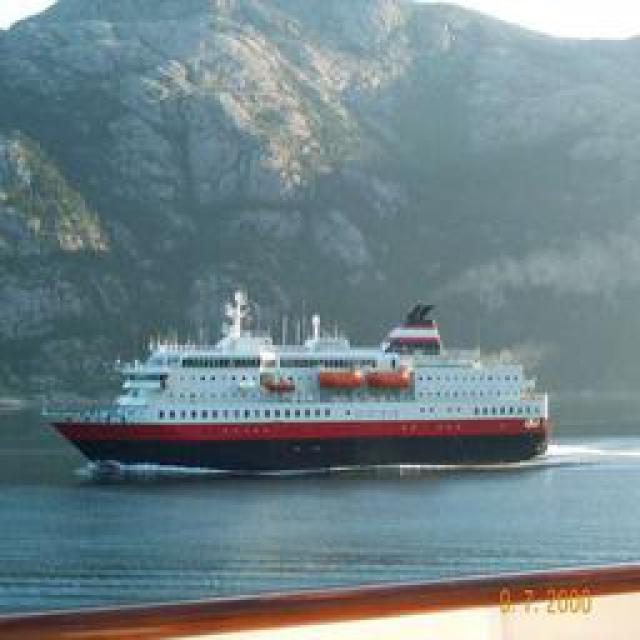Ship: (45, 304, 550, 484)
